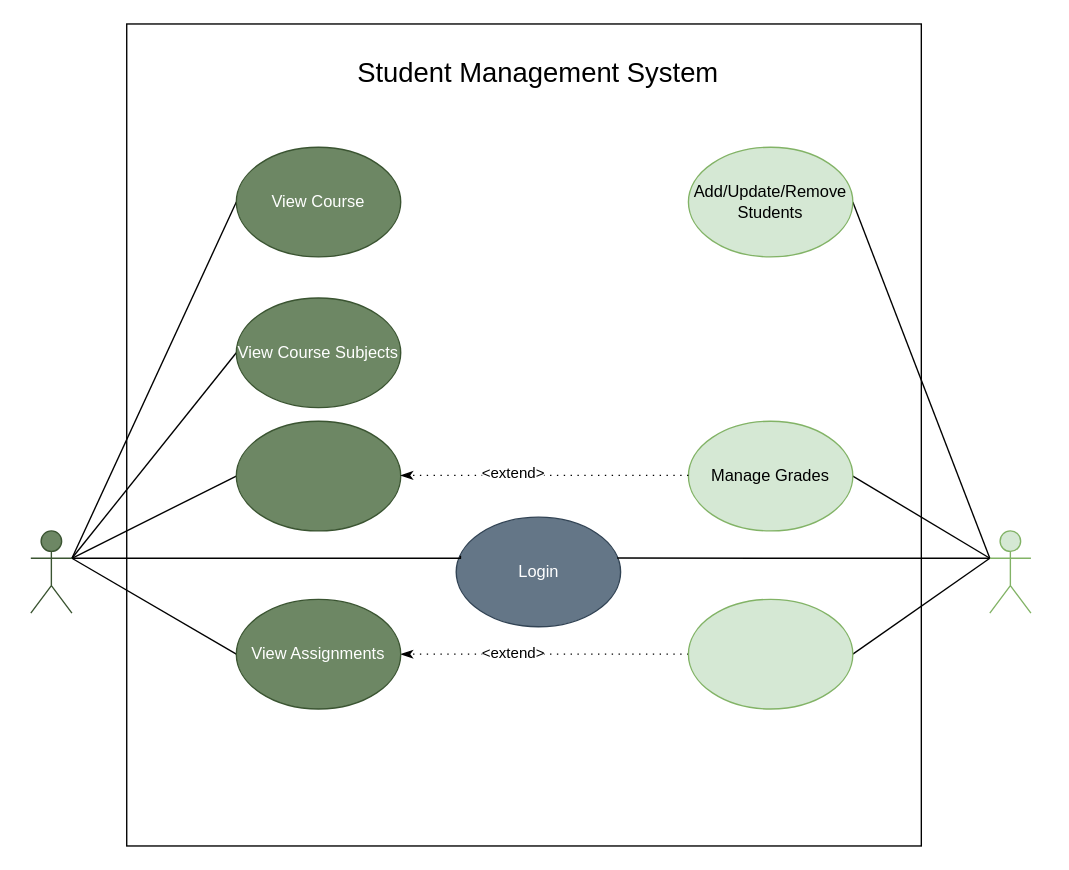
This 1069x870 diagram has some shape labels left out. Here are the shapes that lost their labels. From the top down, the box of each, then its label:
(235, 420, 401, 531): View Grades
(988, 530, 1031, 613): Instructor
(687, 598, 853, 709): Manage Assignments
